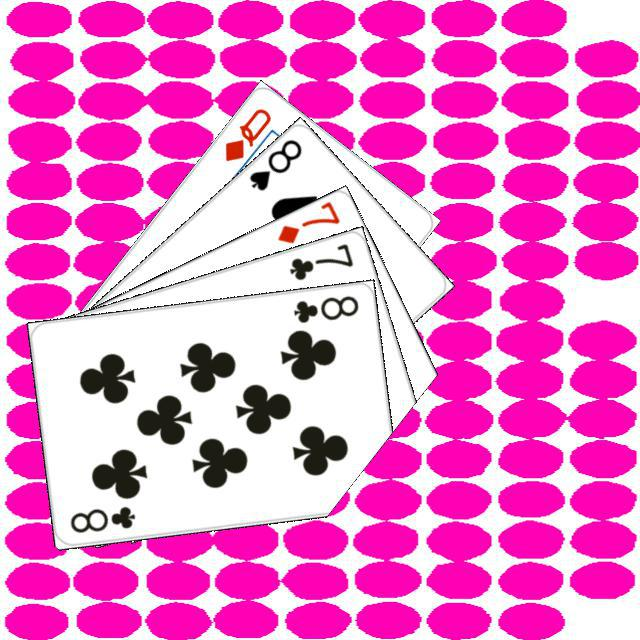7c: (284, 238, 355, 282)
7d: (272, 198, 342, 246)
8c: (288, 290, 360, 325), (65, 501, 137, 535)
8s: (244, 134, 304, 193)
Qd: (219, 103, 273, 163)
